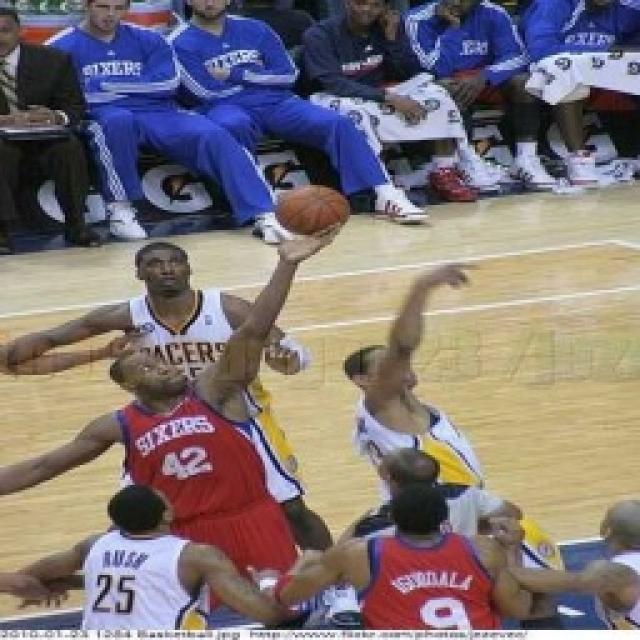rim: (270, 178, 358, 245)
